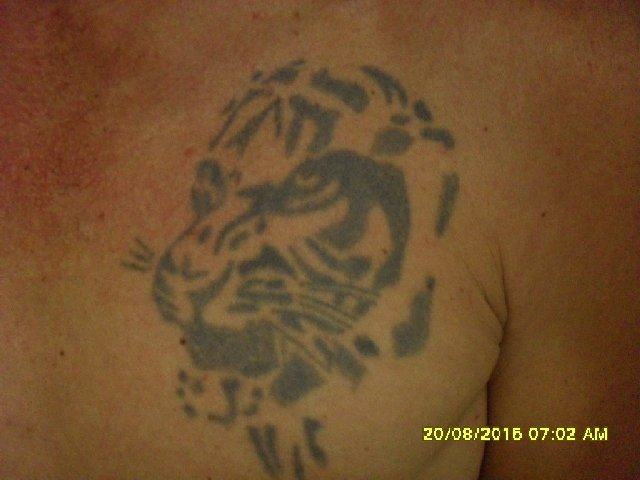tatu5_tigr: (83, 44, 507, 467)
